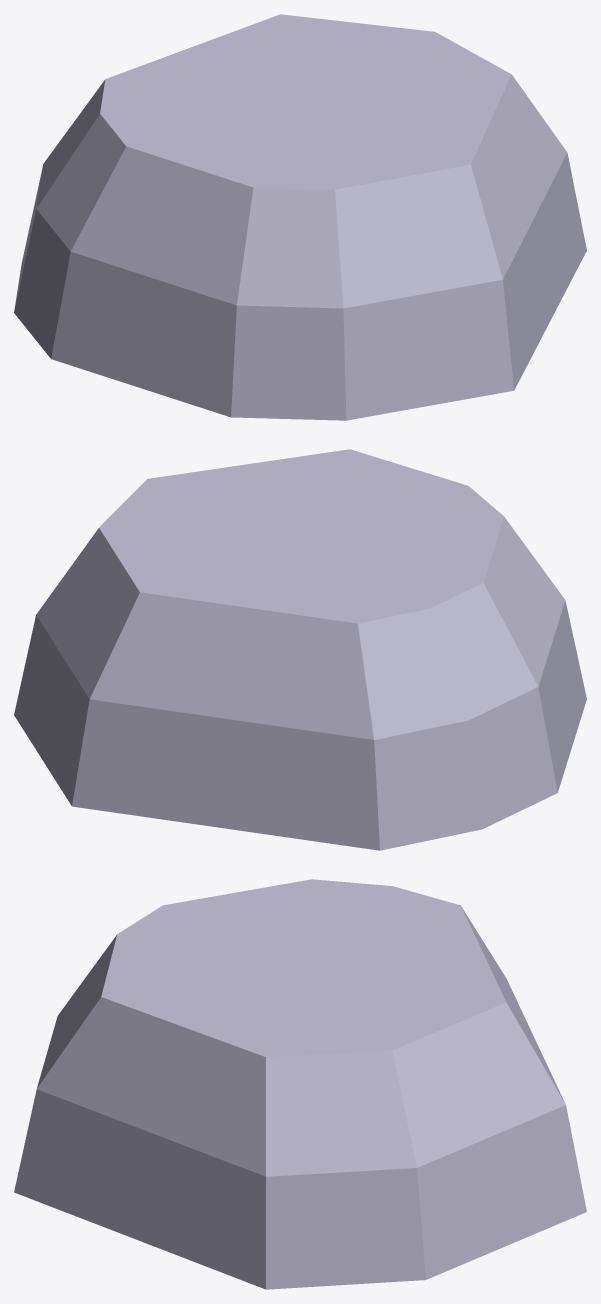
File: Barrior-stone04.fbx
3 views of the same model, one above another, from view 1: azimuth 30°, elevation 25°; view 2: azimuth 150°, elevation 25°; view 3: azimuth 270°, elevation 25° (orthographic).
Visible parts, largest first — view 1: Barrior-stone04; view 2: Barrior-stone04; view 3: Barrior-stone04.
Part boxes in pixels (left/top/right/bottom): Barrior-stone04: left=14, top=14, right=586, bottom=420; Barrior-stone04: left=14, top=449, right=586, bottom=850; Barrior-stone04: left=14, top=879, right=586, bottom=1289.
Bounding box in the file's own units: 1909 × 691 × 1837.
